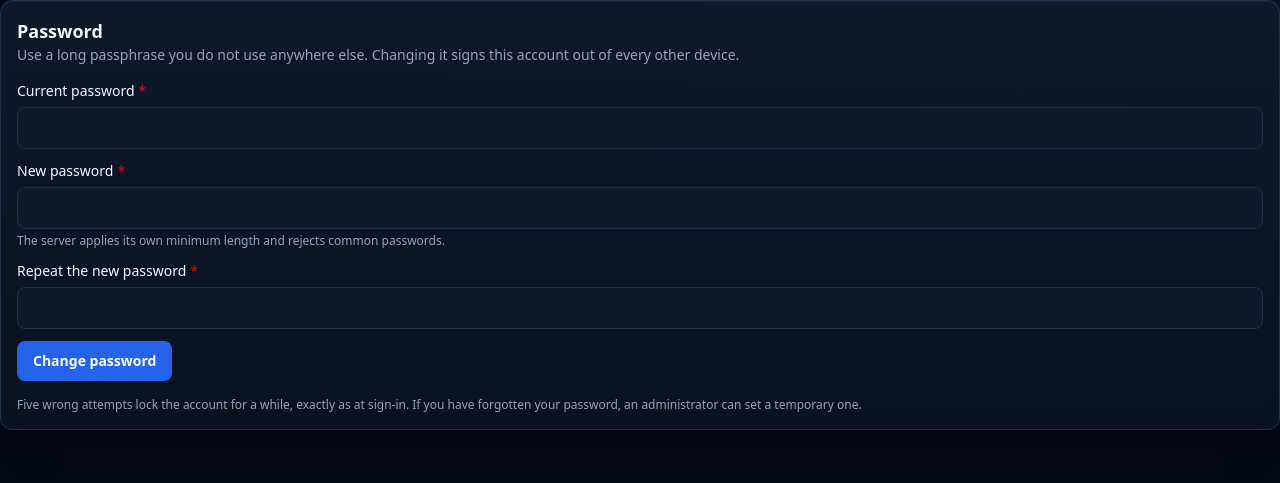
Test: PasswordSettings › changes the password and says what else happened
Step 1. Type "old-password-1" into the password field labelled "Current password*" → (640, 128), box x1=17 y1=107 x2=1263 y2=149
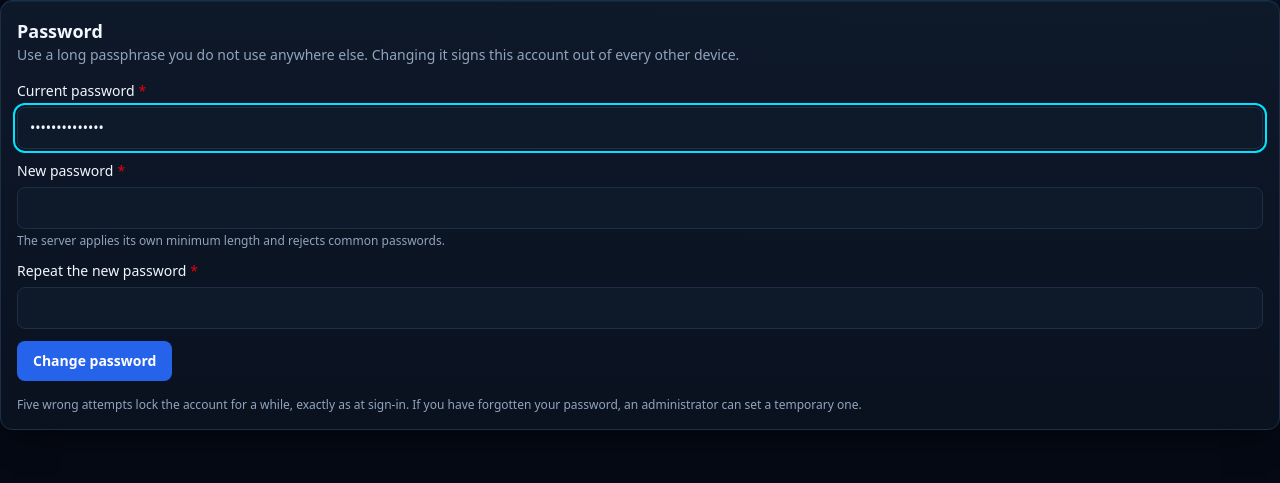
Step 2. Type "new-password-2" into the password field labelled "New password" → (640, 208), box x1=17 y1=187 x2=1263 y2=229
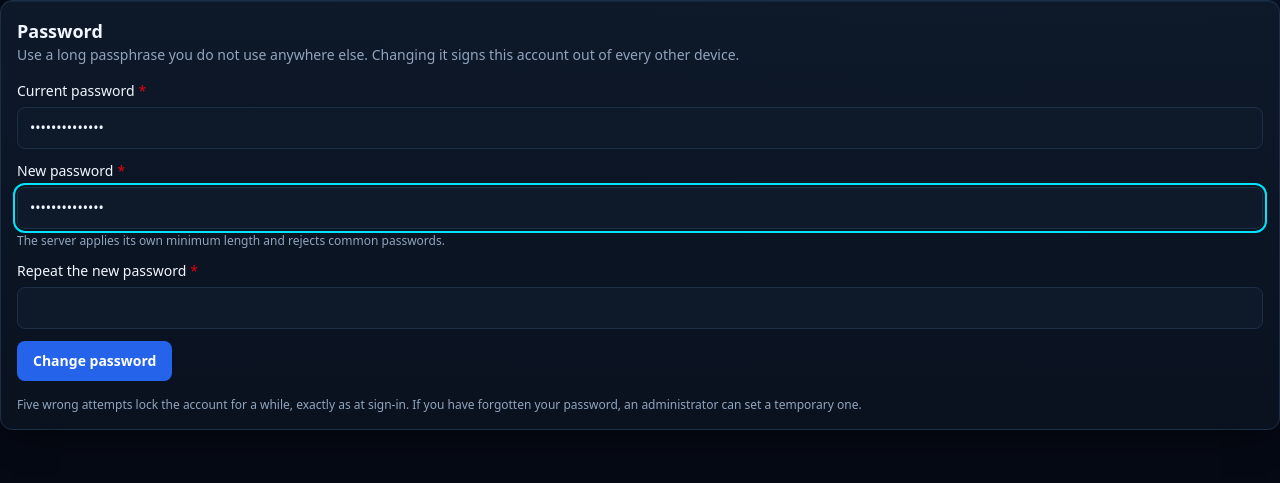
Step 3. Type "new-password-2" into the password field labelled "Repeat the new password*" → (640, 308), box x1=17 y1=287 x2=1263 y2=329
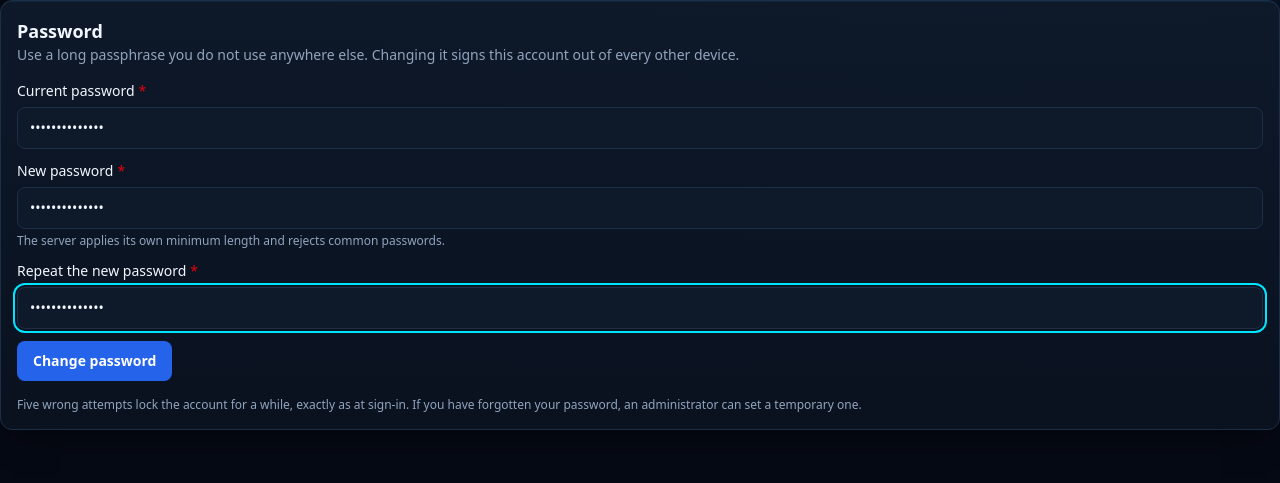
Step 4. Click the button "Change password" → (95, 361), box x1=17 y1=341 x2=172 y2=381
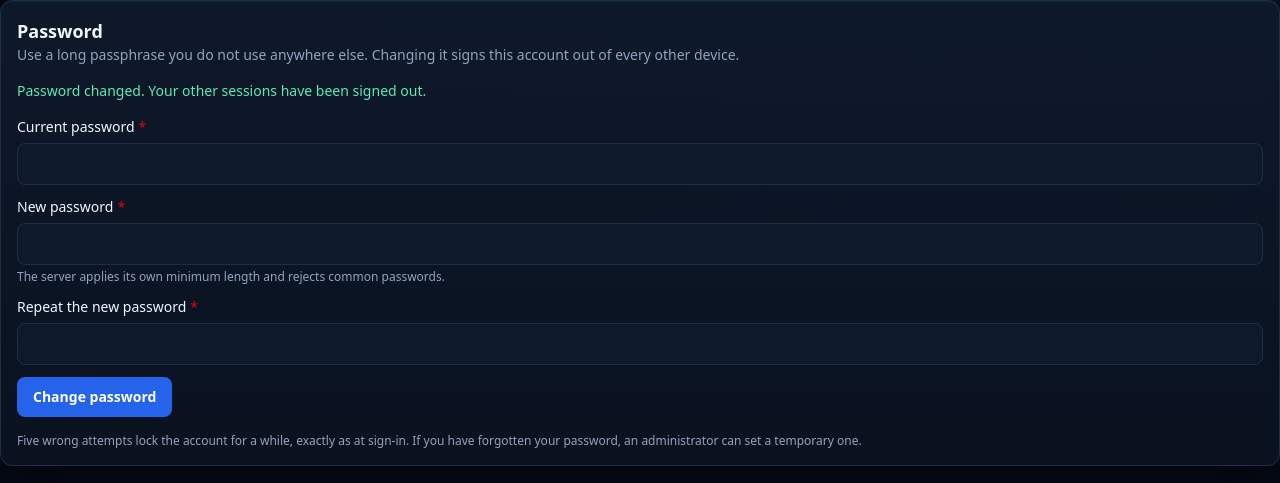
expect the message shows "other sessions have been signed out": met, box x1=17 y1=81 x2=426 y2=100
expect the password field labelled "Current password*" is empty: met, box x1=17 y1=143 x2=1263 y2=185
